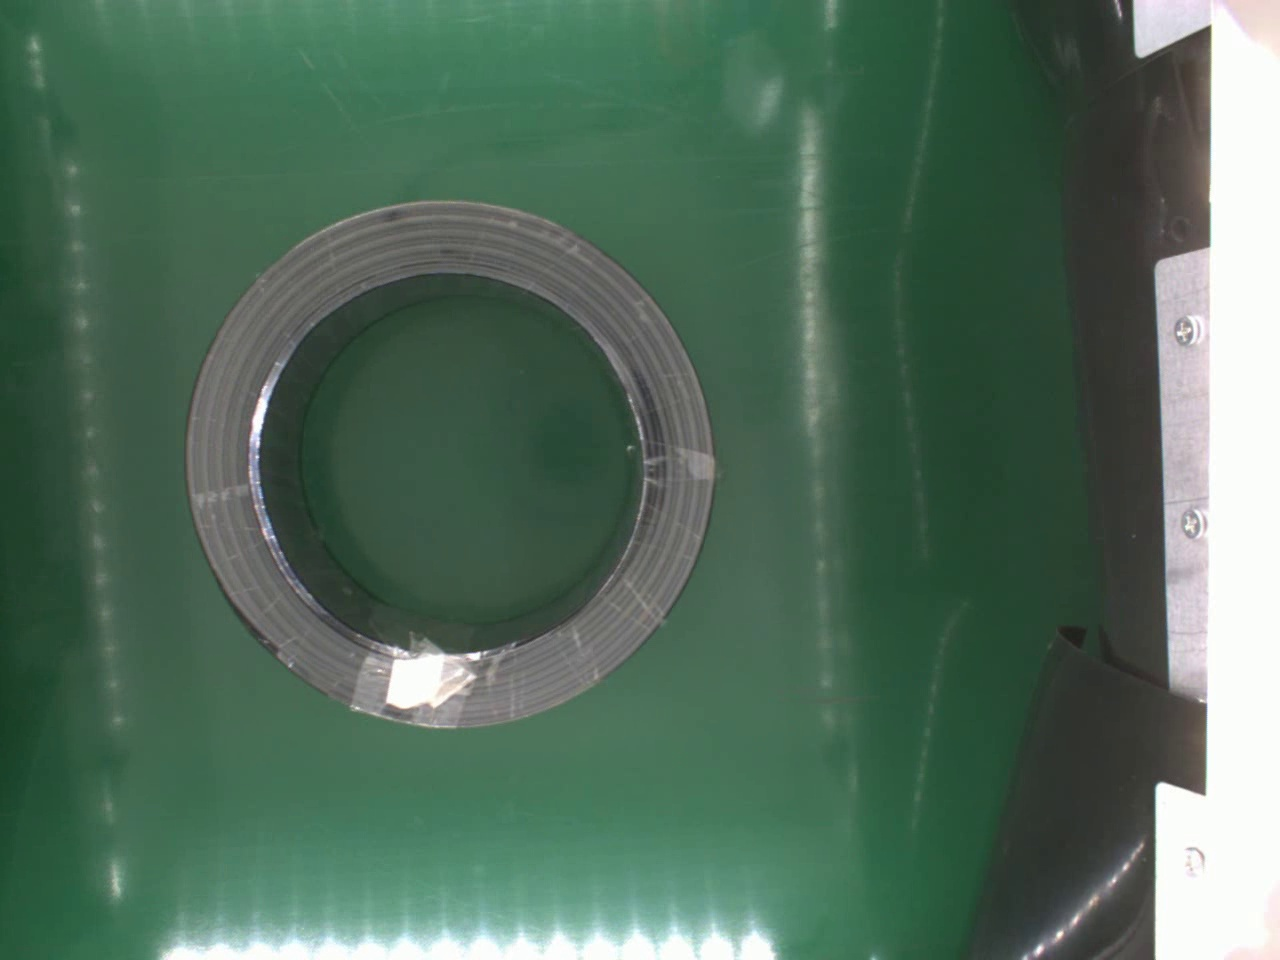black: (180, 194, 718, 738)
